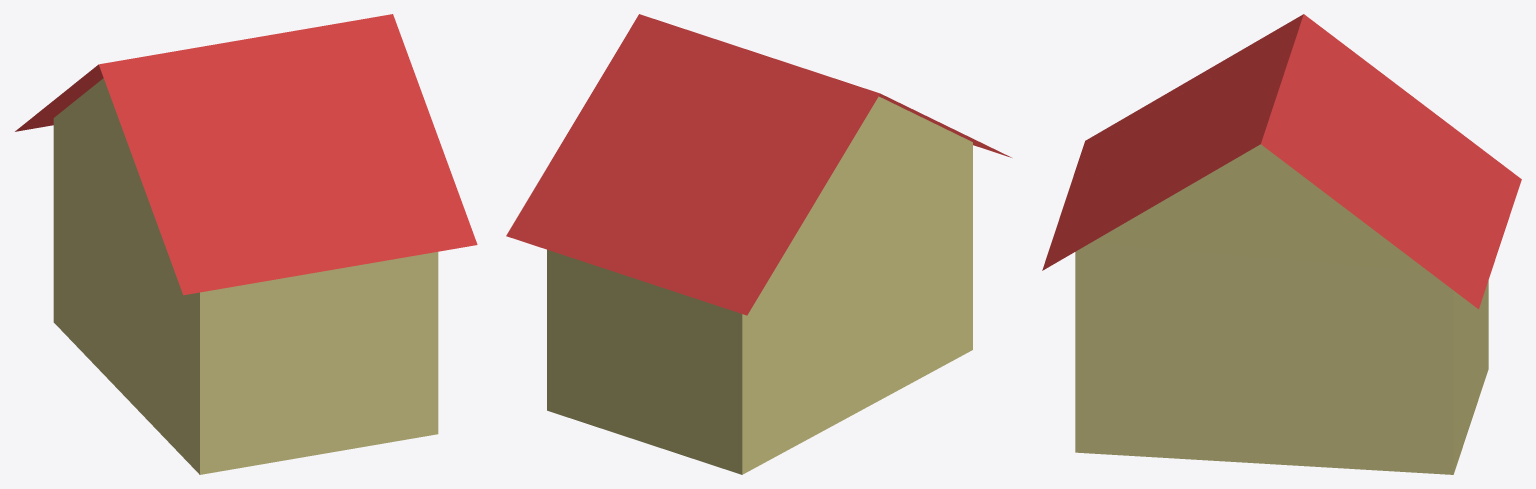
The picture shows the model from 3 angles, left to right: view 1: azimuth 30°, elevation 25°; view 2: azimuth 150°, elevation 25°; view 3: azimuth 270°, elevation 25°; orthographic projection. The views are drawn at different scales.
Bounding box in the file's own units: 12.48 × 16.22 × 12.39.
